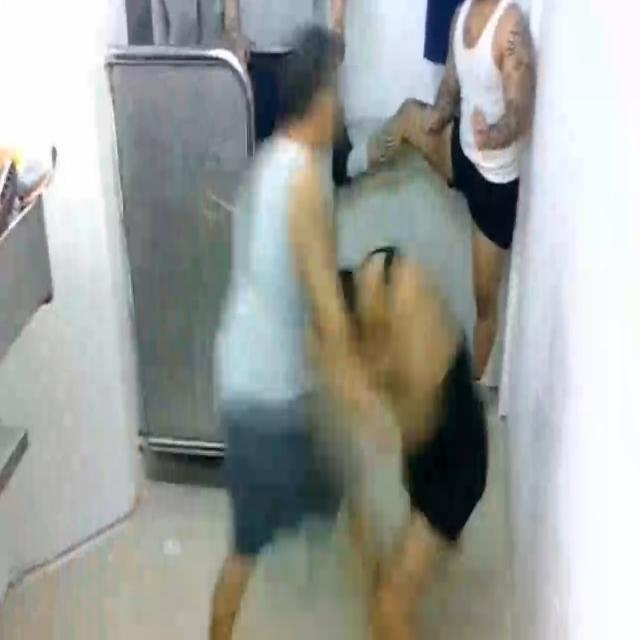fight: (211, 21, 489, 640)
